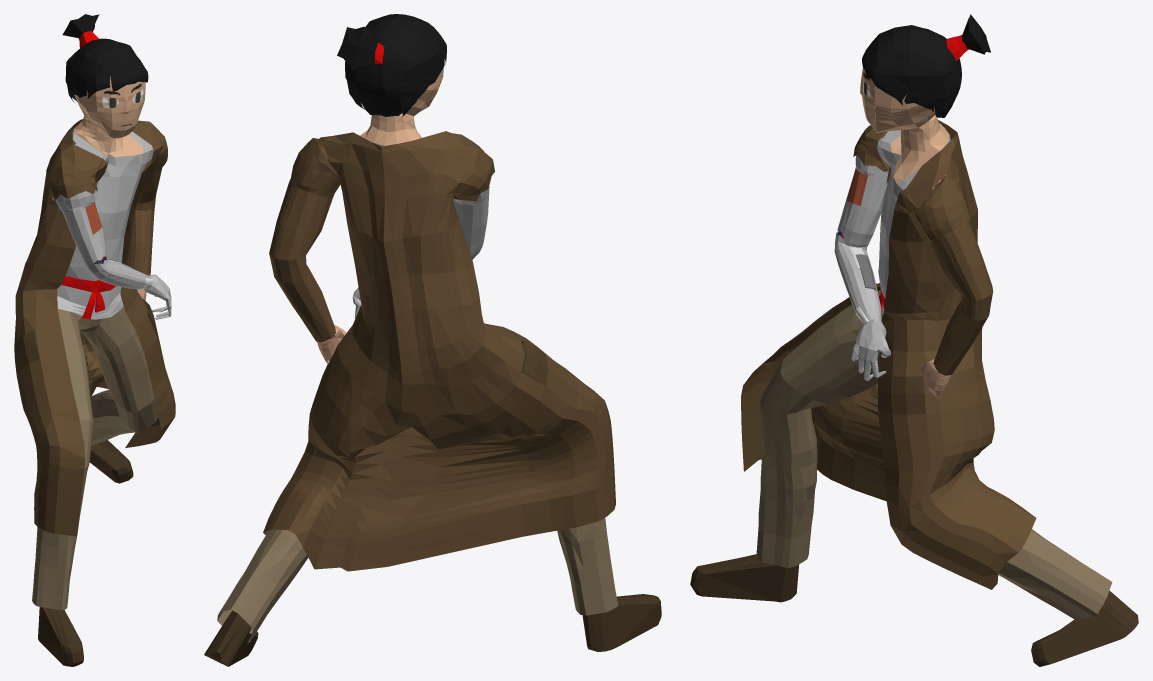
File: One_RR_000014.obj
3 views of the same model, side by side, from view 1: azimuth 30°, elevation 25°; view 2: azimuth 150°, elevation 25°; view 3: azimuth 270°, elevation 25° (orthographic). The views are drawn at different scales.
Parts seen in each view (by area): view 1: Hair_Cube.004; view 2: Hair_Cube.004; view 3: Hair_Cube.004.
Part boxes in pixels (x1,y1,x2,y2): Hair_Cube.004: (14,14,175,666); Hair_Cube.004: (204,14,661,666); Hair_Cube.004: (690,14,1138,666).
Bounding box in the file's own units: 1.49 × 3.63 × 2.28.
